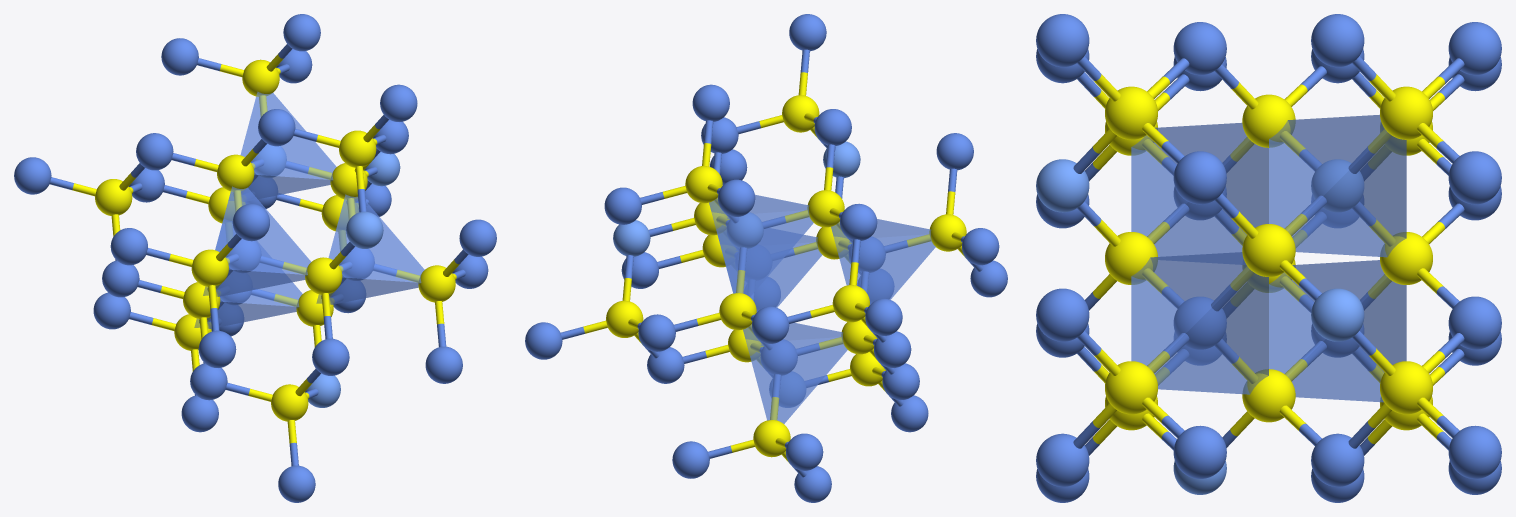
File: 02_scene 3_CuS.fbx
The picture shows the model from 3 angles, left to right: view 1: azimuth 30°, elevation 25°; view 2: azimuth 150°, elevation 25°; view 3: azimuth 270°, elevation 25°; orthographic projection. The views are drawn at different scales.
Parts seen in each view (by area): view 1: Mesh_29.001; view 2: Mesh_29.001; view 3: Mesh_29.001.
Boxes of the visible parts, box(x1,y1,x2,y2) form: Mesh_29.001: box(14, 14, 496, 502); Mesh_29.001: box(525, 14, 1007, 502); Mesh_29.001: box(1036, 14, 1501, 502).
Bounding box in the file's own units: 1149 × 1149 × 874.
